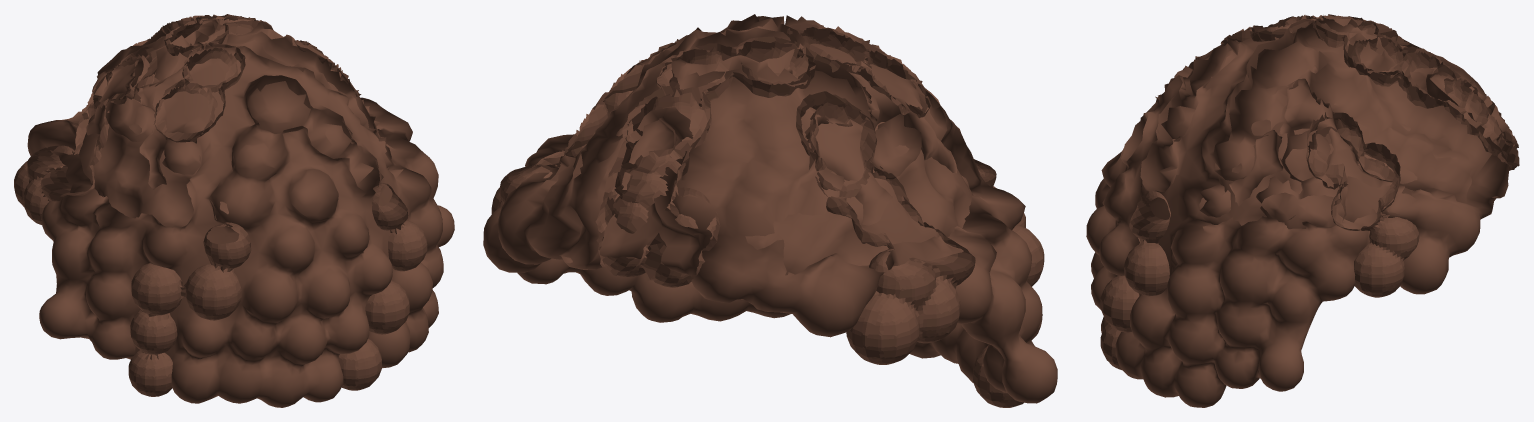
File: hair_perm_f.glb
3 views of the same model, side by side, from view 1: azimuth 30°, elevation 25°; view 2: azimuth 150°, elevation 25°; view 3: azimuth 270°, elevation 25° (orthographic). The views are drawn at different scales.
Parts seen in each view (by area): view 1: Acc_hair_perm_HairPerm, Acc_hair_perm_HairPermShade; view 2: Acc_hair_perm_HairPerm, Acc_hair_perm_HairPermShade; view 3: Acc_hair_perm_HairPerm, Acc_hair_perm_HairPermShade.
Part boxes in pixels (left/top/right/bottom): Acc_hair_perm_HairPerm: left=27, top=14, right=454, bottom=407; Acc_hair_perm_HairPermShade: left=14, top=14, right=427, bottom=396; Acc_hair_perm_HairPerm: left=483, top=14, right=1057, bottom=403; Acc_hair_perm_HairPermShade: left=491, top=23, right=1044, bottom=407; Acc_hair_perm_HairPerm: left=1086, top=17, right=1509, bottom=407; Acc_hair_perm_HairPermShade: left=1100, top=14, right=1519, bottom=369.
Size of the model in its own units: 0.4626 by 0.3268 by 0.3967.
